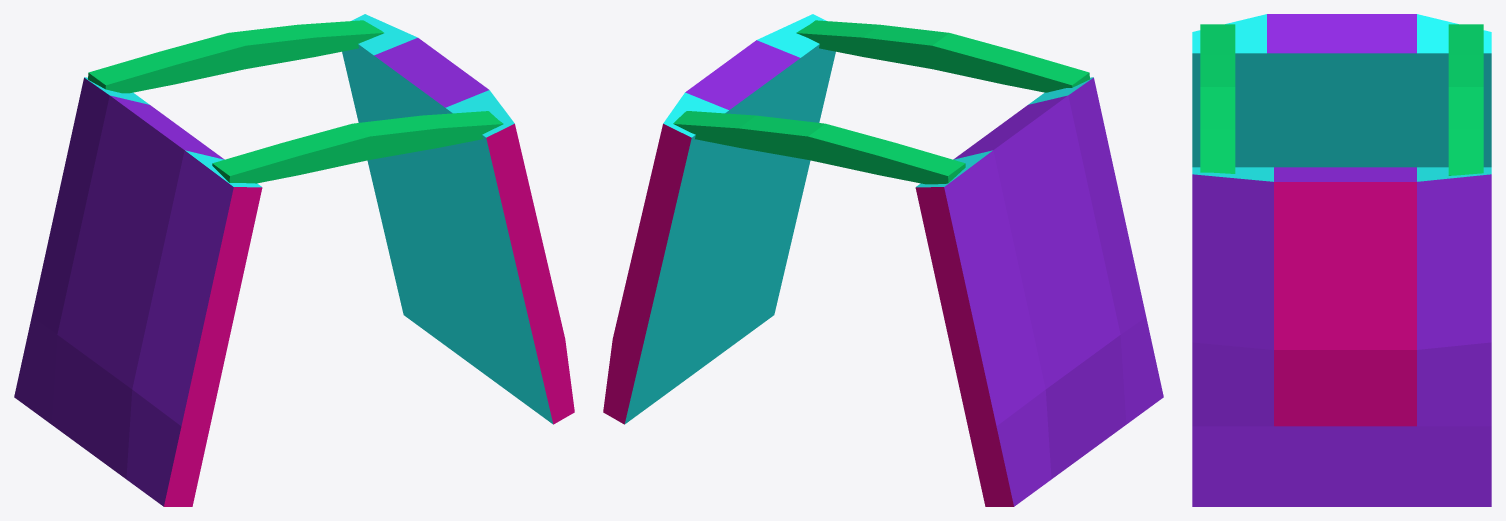
Rendered from gamer armor.gltf.
The picture shows the model from 3 angles, left to right: view 1: azimuth 30°, elevation 25°; view 2: azimuth 150°, elevation 25°; view 3: azimuth 270°, elevation 25°; orthographic projection.
Visible parts, largest first — view 1: Cube, Cube.001, Cube.004, Cube.003; view 2: Cube, Cube.001, Cube.004, Cube.003; view 3: Cube.001, Cube, Cube.004, Cube.003.
Part boxes in pixels (x1,y1,x2,y2): Cube: (14, 77, 262, 506); Cube.001: (342, 14, 574, 424); Cube.004: (88, 20, 383, 93); Cube.003: (212, 111, 503, 183); Cube: (915, 77, 1163, 506); Cube.001: (603, 14, 835, 424); Cube.004: (673, 111, 965, 184); Cube.003: (796, 20, 1089, 92); Cube.001: (1192, 167, 1491, 506); Cube: (1192, 14, 1491, 167); Cube.004: (1448, 24, 1483, 175); Cube.003: (1200, 24, 1235, 173).
Size of the model in its own units: 2.13 by 1.63 by 1.35.
